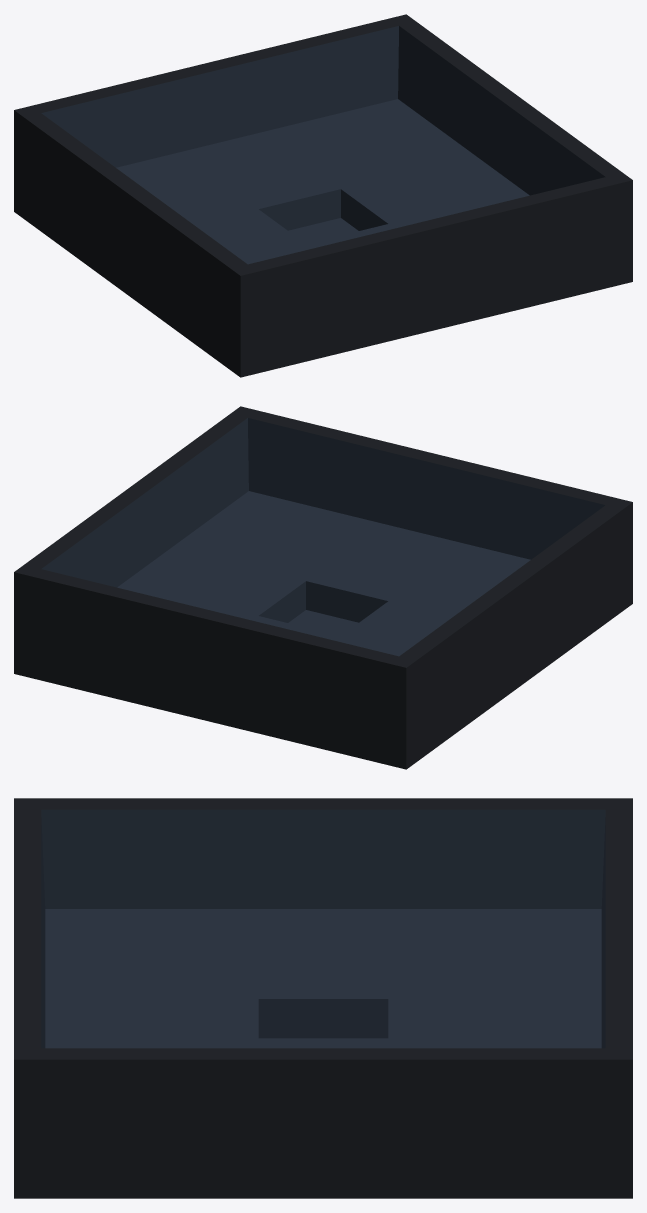
Rendered from 911MemorialPool.fbx.
3 renders of one model, top to bottom at view 1: azimuth 30°, elevation 25°; view 2: azimuth 150°, elevation 25°; view 3: azimuth 270°, elevation 25°, orthographic. The views are drawn at different scales.
Visible parts, largest first — view 1: Plane; view 2: Plane; view 3: Plane.
Boxes of the visible parts, x1,y1,x2,y2 form: Plane: (14,14,632,377); Plane: (14,406,632,769); Plane: (14,798,632,1198).
Size of the model in its own units: 2400 by 595 by 2400.
Materials: 1 (1 with a texture image).
